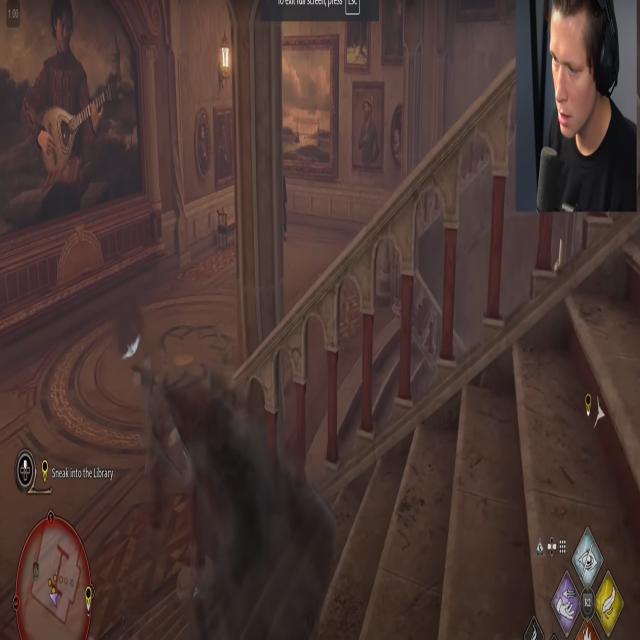compass: (85, 586, 92, 612), (585, 393, 592, 418), (42, 459, 48, 485)
